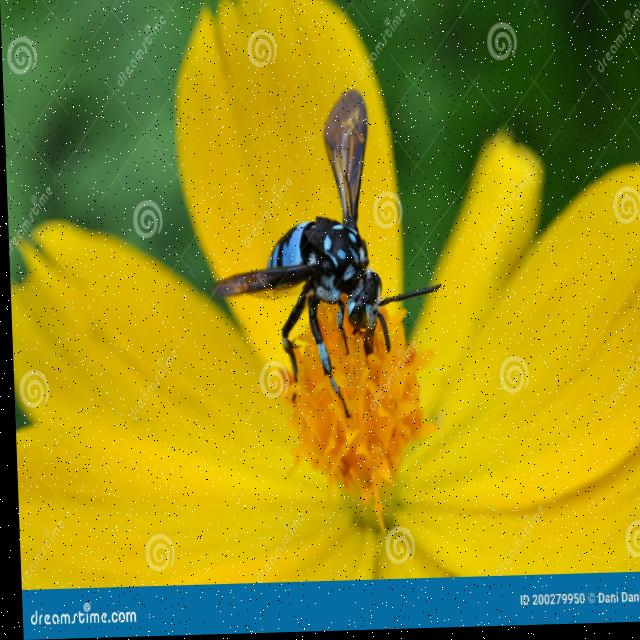Thyreus: (194, 89, 449, 429)
